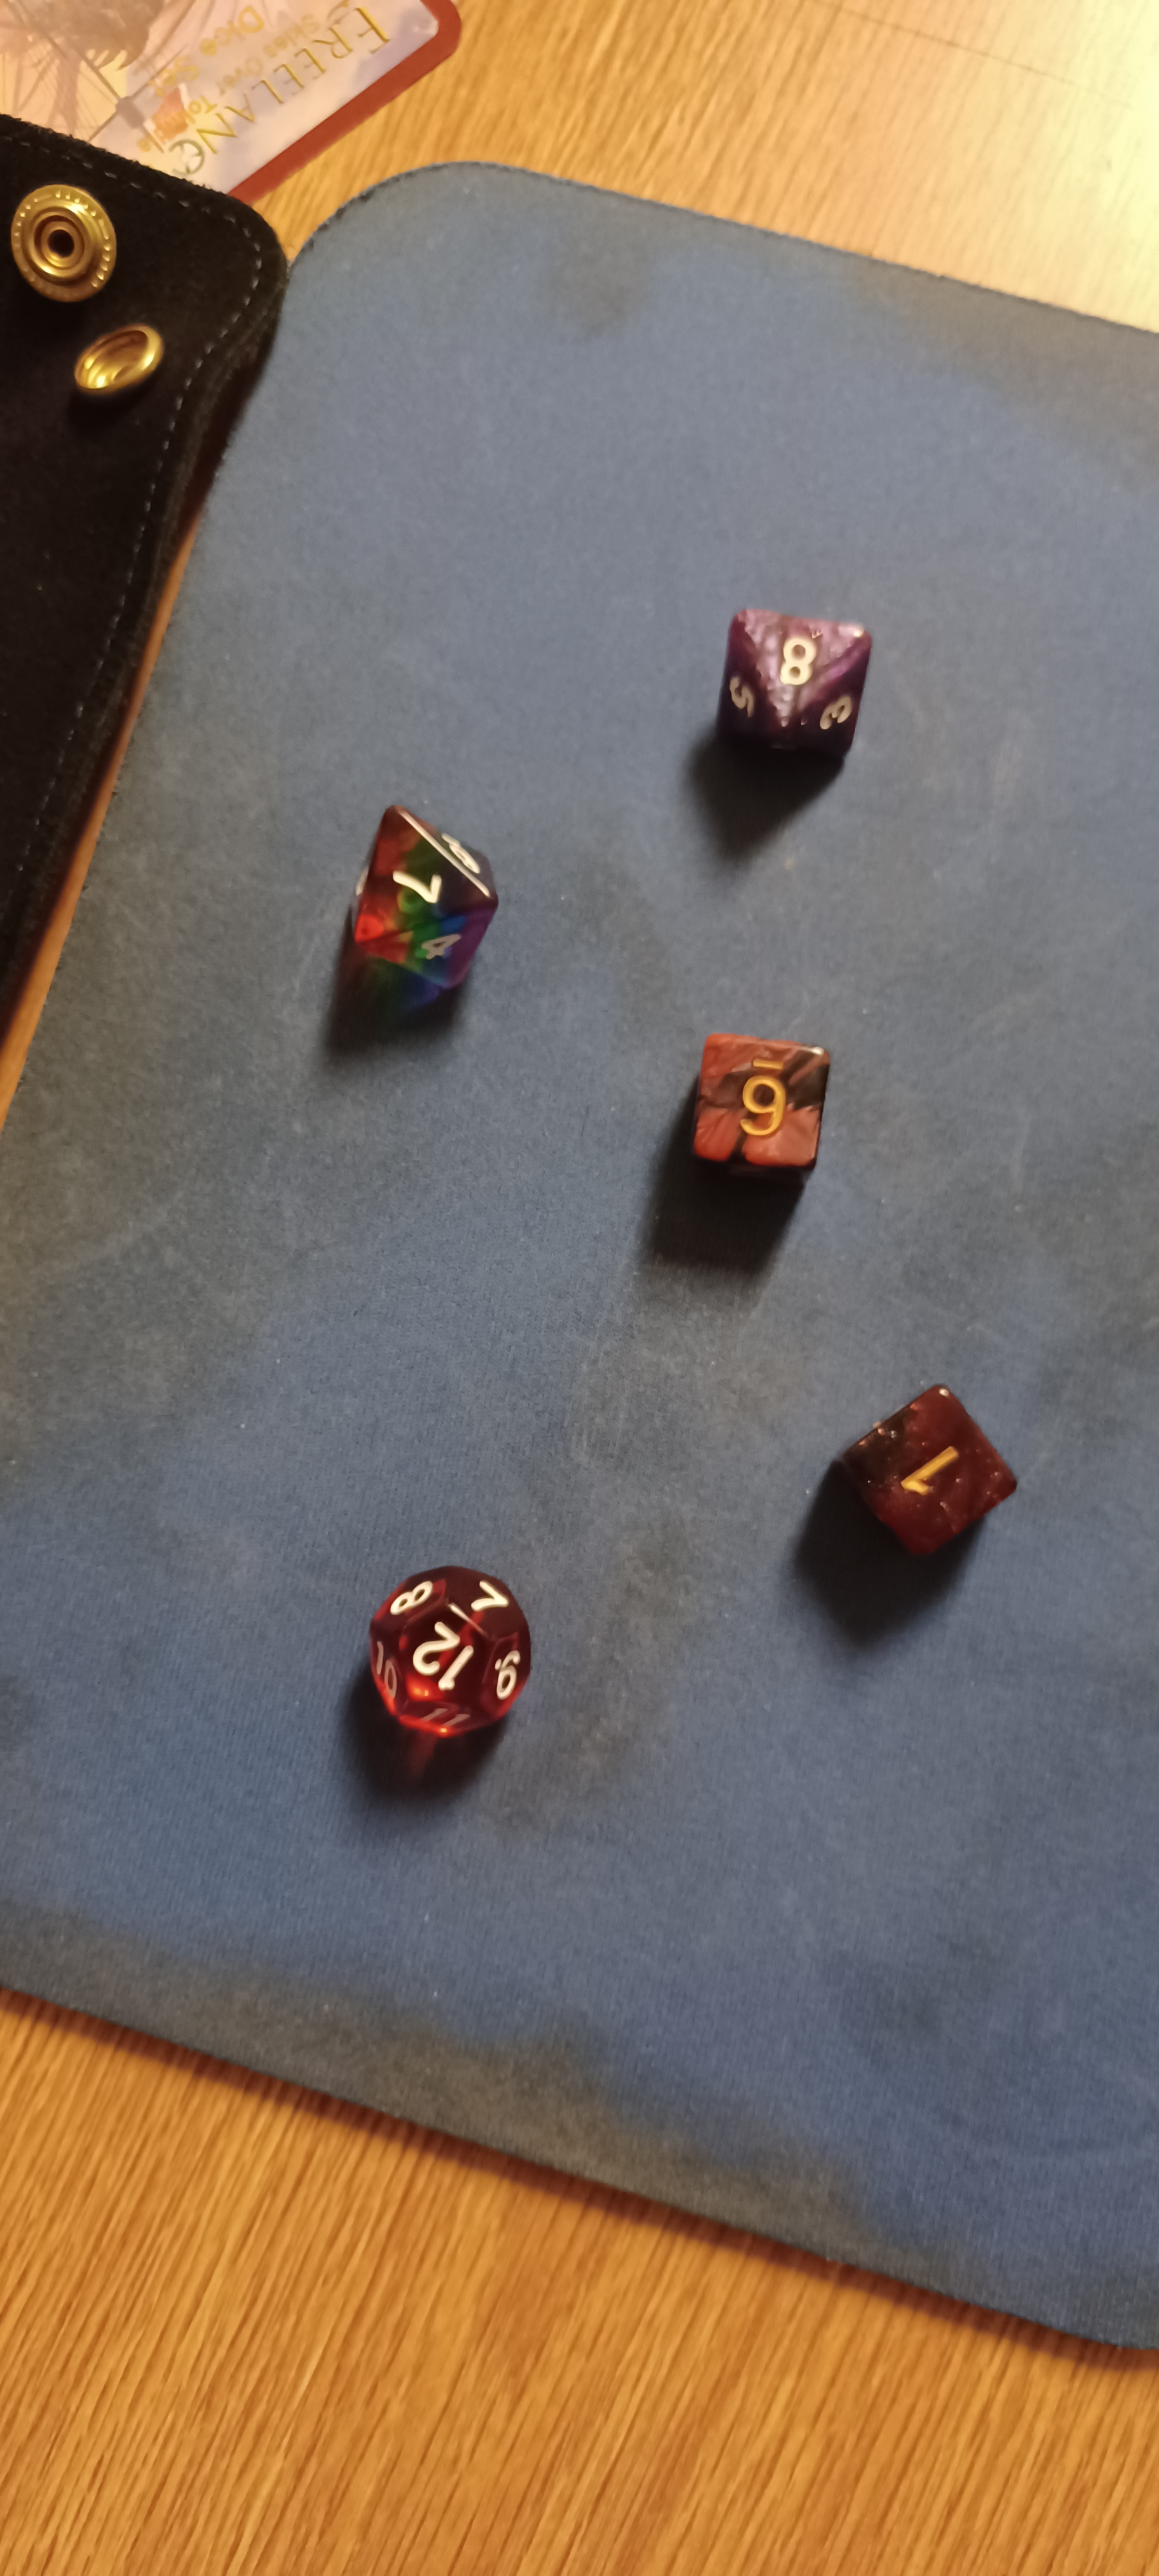eight: (688, 570, 916, 779)
one: (831, 1349, 1039, 1603)
seven: (276, 766, 538, 1007)
six: (642, 991, 860, 1206)
twelve: (307, 1518, 589, 1782)
